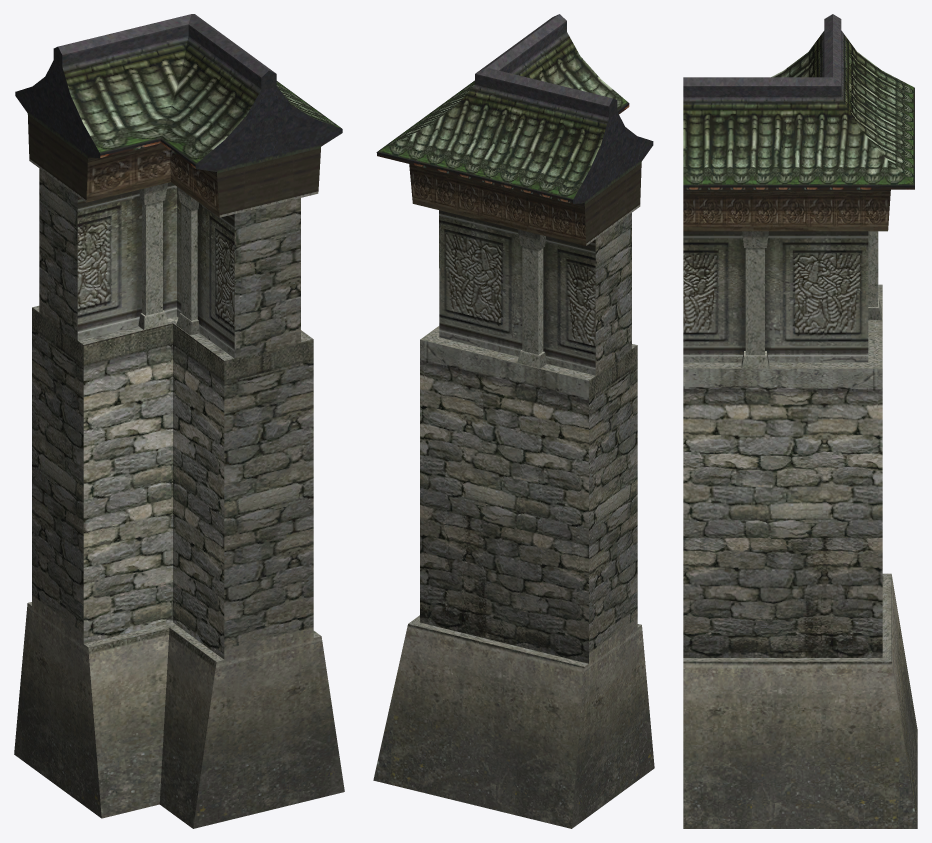
File: c1-middledam-05.fbx
3 renders of one model, left to right at view 1: azimuth 30°, elevation 25°; view 2: azimuth 150°, elevation 25°; view 3: azimuth 270°, elevation 25°, orthographic. The views are drawn at different scales.
Parts seen in each view (by area): view 1: Object04; view 2: Object04; view 3: Object04.
Boxes of the visible parts, x1,y1,x2,y2 form: Object04: [14, 14, 344, 828]; Object04: [373, 14, 654, 828]; Object04: [683, 14, 917, 828].
Bounding box in the file's own units: 2.35 × 7.92 × 2.35.
